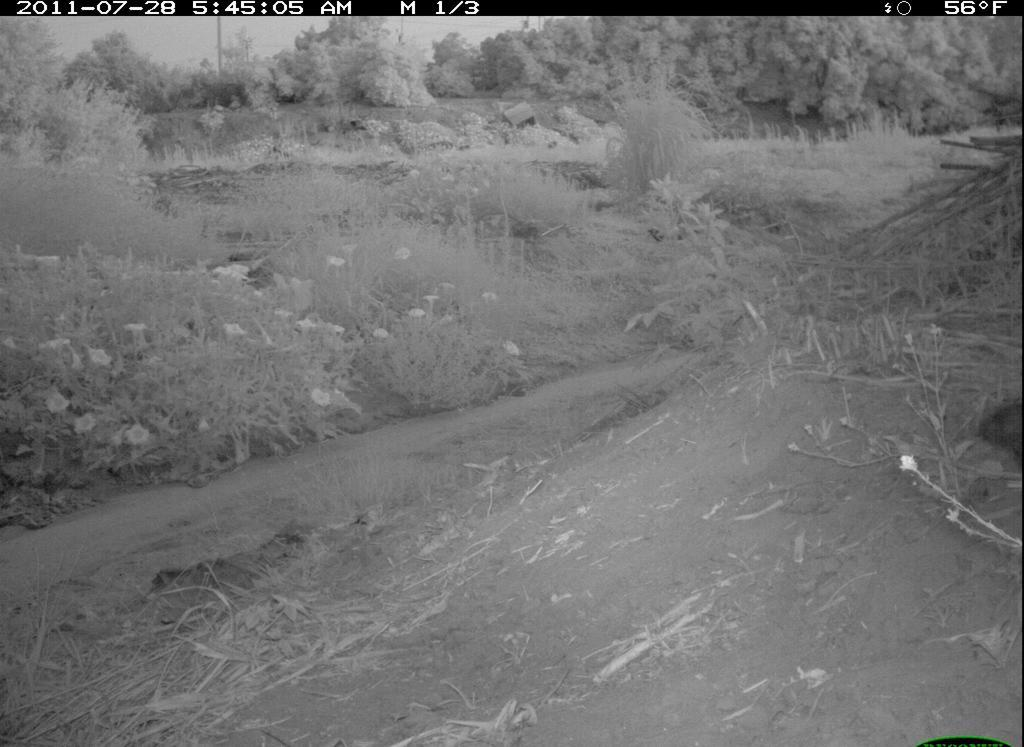rabbit: (967, 378, 1024, 480)
